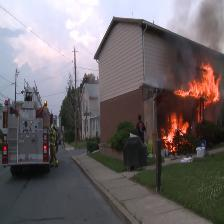fire: (151, 63, 224, 169)
smoke: (163, 0, 224, 66)
